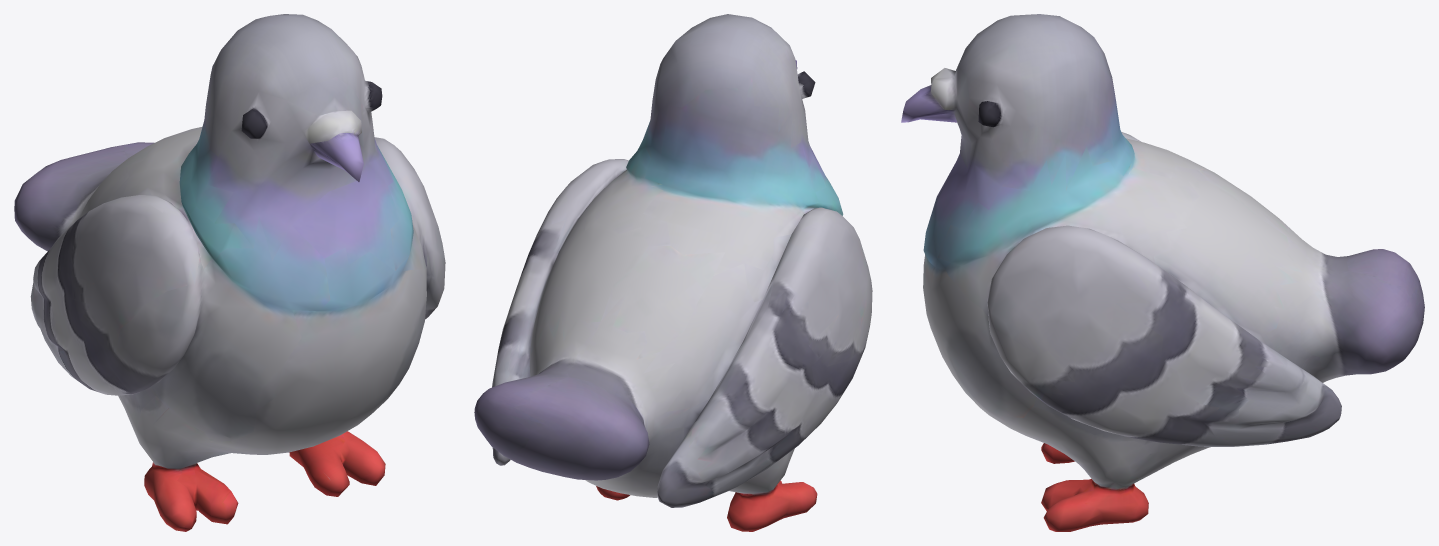
The model's file is pigeon.glb.
3 views of the same model, side by side, from view 1: azimuth 30°, elevation 25°; view 2: azimuth 150°, elevation 25°; view 3: azimuth 270°, elevation 25° (orthographic). The views are drawn at different scales.
Parts seen in each view (by area): view 1: tripo_node_4db67a1f-211f-45d4-8ed5-15bbdc850913; view 2: tripo_node_4db67a1f-211f-45d4-8ed5-15bbdc850913; view 3: tripo_node_4db67a1f-211f-45d4-8ed5-15bbdc850913.
Boxes of the visible parts, left/top/right/bottom form: tripo_node_4db67a1f-211f-45d4-8ed5-15bbdc850913: left=14, top=14, right=445, bottom=531; tripo_node_4db67a1f-211f-45d4-8ed5-15bbdc850913: left=474, top=14, right=872, bottom=531; tripo_node_4db67a1f-211f-45d4-8ed5-15bbdc850913: left=901, top=14, right=1424, bottom=531.
Size of the model in its own units: 0.6481 by 0.9626 by 0.9792.
1 material, 1 textured.
